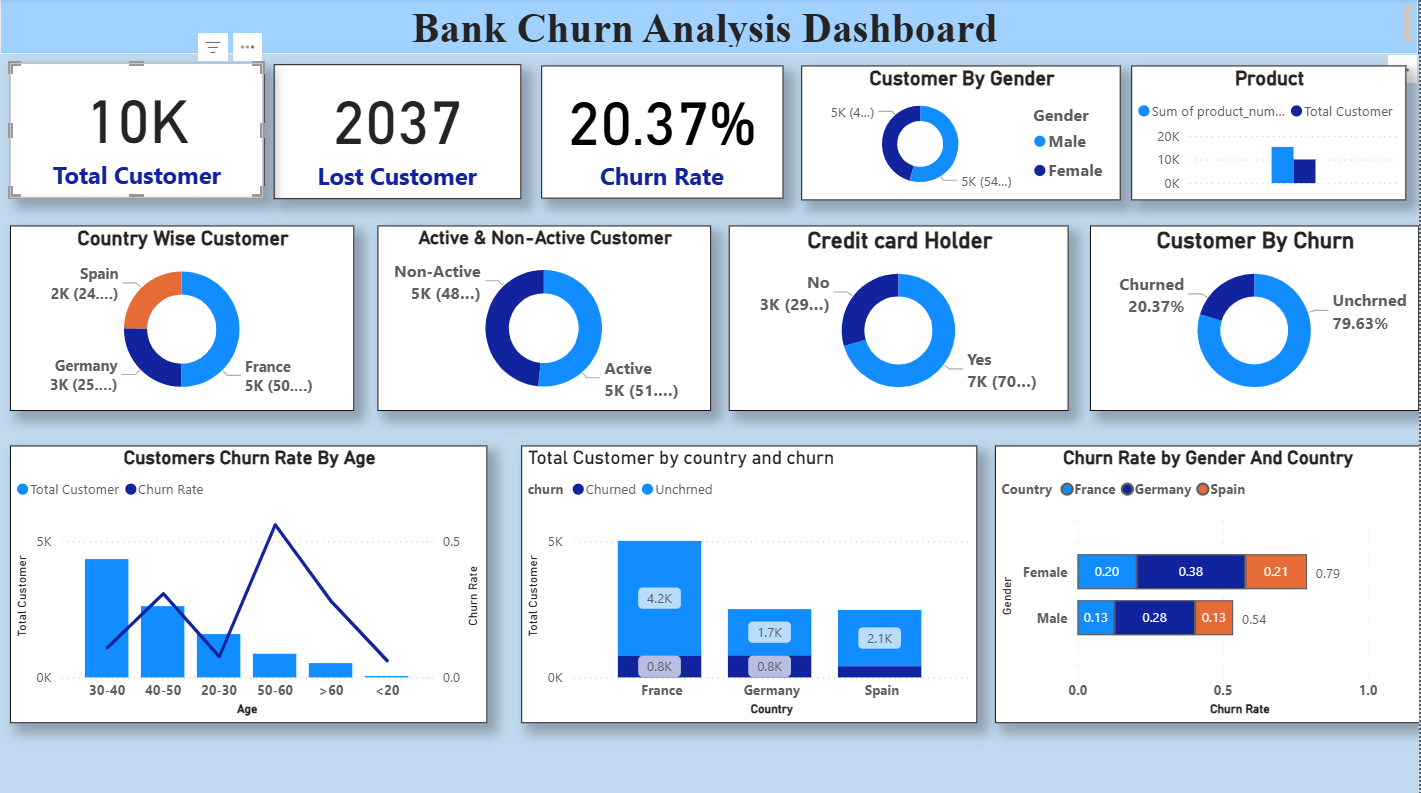

Layout of this report page (visuals, bound fields, positions):
{"tool":"powerbi","page":{"name":"Page 1","canvas":[1280,720],"ordinal":0},"visuals":[{"type":"textbox","box":[0,0,1279.8,50.3],"z":0},{"type":"card","fields":{"Values":["Age Groups.Total Customer"]},"box":[8.6,58.9,229.4,121.5],"z":1000},{"type":"card","fields":{"Values":["Age Groups.Lost Customer"]},"box":[246.6,60.1,223.3,121.5],"z":2000},{"type":"card","fields":{"Values":["Age Groups.Churn Rate"]},"box":[488.3,61.4,218.4,120.2],"z":3000},{"type":"donutChart","title":" Country Wise Customer","fields":{"Y":["Age Groups.Total Customer"],"Category":["Bank Churn Data Prediction.country"]},"box":[8.6,204.9,310.4,166.9],"z":4000},{"type":"donutChart","title":" Active & Non-Active Customer","fields":{"Y":["Age Groups.Total Customer"],"Category":["Bank Churn Data Prediction.active_member"]},"box":[339.9,204.9,300.6,166.9],"z":5000},{"type":"lineStackedColumnComboChart","title":"Customers Churn Rate By Age","fields":{"Category":["Age Groups.Age Bins"],"Y":["Age Groups.Total Customer"],"Y2":["Age Groups.Churn Rate"]},"box":[8.6,403.7,430.7,250.3],"z":6000},{"type":"lineStackedColumnComboChart","fields":{"Category":["Bank Churn Data Prediction.country"],"Y":["Age Groups.Total Customer"],"Series":["Bank Churn Data Prediction.churn"]},"box":[469.9,403.7,411,250.3],"z":7000},{"type":"donutChart","title":" Customer By Gender","fields":{"Category":["Bank Churn Data Prediction.gender"],"Y":["Age Groups.Total Customer"]},"box":[722.7,61.4,288.3,121.5],"z":8000},{"type":"lineClusteredColumnComboChart","title":"Product","fields":{"Y":["Sum(Bank Churn Data Prediction.product_number)","Age Groups.Total Customer"]},"box":[1019.6,61.4,247.9,121.5],"z":9000},{"type":"donutChart","title":"Credit card Holder","fields":{"Category":["Bank Churn Data Prediction.Credit Card Holder"],"Series":["Bank Churn Data Prediction.Credit Card Holder"],"Y":["Age Groups.Total Customer"]},"box":[657.7,204.9,306.8,166.9],"z":10000},{"type":"donutChart","title":"Customer By  Churn","fields":{"Category":["Bank Churn Data Prediction.churn"],"Y":["Age Groups.Total Customer"]},"box":[982.8,204.9,296.9,166.9],"z":11000},{"type":"barChart","title":"Churn Rate by Gender And Country","fields":{"Y":["Age Groups.Churn Rate"],"Category":["Bank Churn Data Prediction.gender"],"Series":["Bank Churn Data Prediction.country"]},"box":[896.9,403.7,382.8,250.3],"z":12000}]}

Visuals, with their boxes in screenshot pixels (x1, y1, x2, y2), scaled from the page's 1280x720 canvas onto the 1421x793 screenshot:
textbox: rect(0, 0, 1420, 55)
card - Age Groups.Total Customer: rect(10, 65, 264, 199)
card - Age Groups.Lost Customer: rect(274, 66, 522, 200)
card - Age Groups.Churn Rate: rect(542, 68, 785, 200)
" Country Wise Customer" donutChart: rect(10, 226, 354, 409)
" Active & Non-Active Customer" donutChart: rect(377, 226, 711, 409)
"Customers Churn Rate By Age" lineStackedColumnComboChart: rect(10, 445, 488, 720)
lineStackedColumnComboChart - Bank Churn Data Prediction.country x Age Groups.Total Customer: rect(522, 445, 978, 720)
" Customer By Gender" donutChart: rect(802, 68, 1122, 201)
"Product" lineClusteredColumnComboChart: rect(1132, 68, 1407, 201)
"Credit card Holder" donutChart: rect(730, 226, 1071, 409)
"Customer By  Churn" donutChart: rect(1091, 226, 1420, 409)
"Churn Rate by Gender And Country" barChart: rect(996, 445, 1420, 720)
